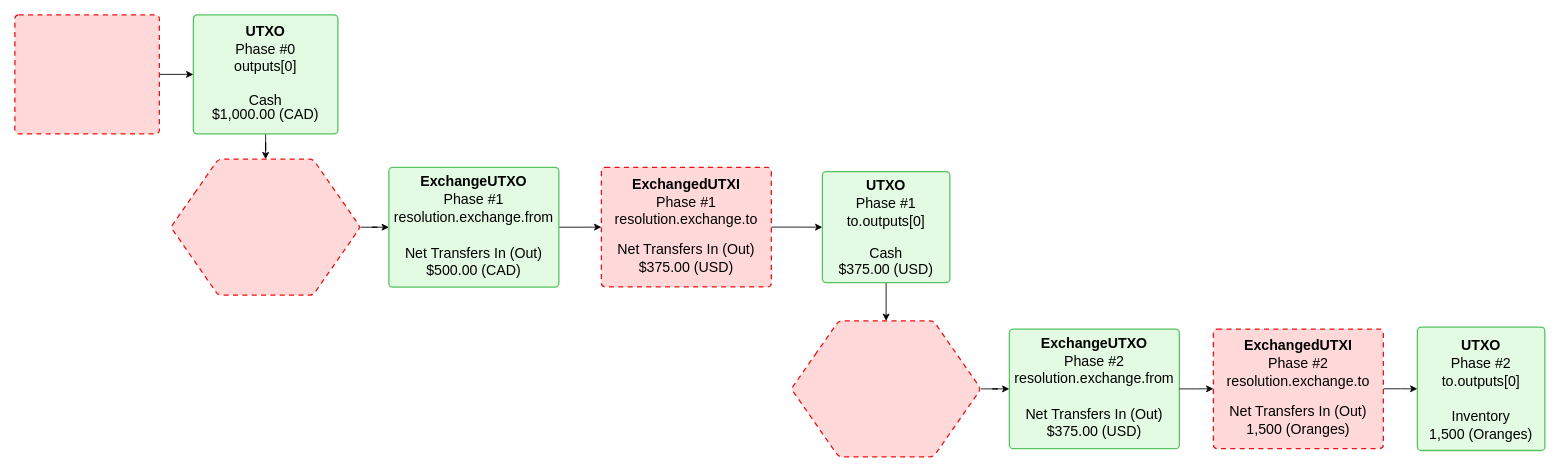
The diagram is 1561 pixels wide and 473 high, and some of its shapes have lost their labels. Each missing label, with the box of its shape:
UTXI Phase #0 inputs[0] Opening Balance $1,000.00 (CAD): (14, 14, 160, 134)
UTXO Consumed Phase #1 from.inputs[0] Cash $500.00 (CAD): (170, 158, 361, 295)
UTXO Consumed Phase #2 from.inputs[0] Cash $375.00 (USD): (790, 320, 981, 457)
